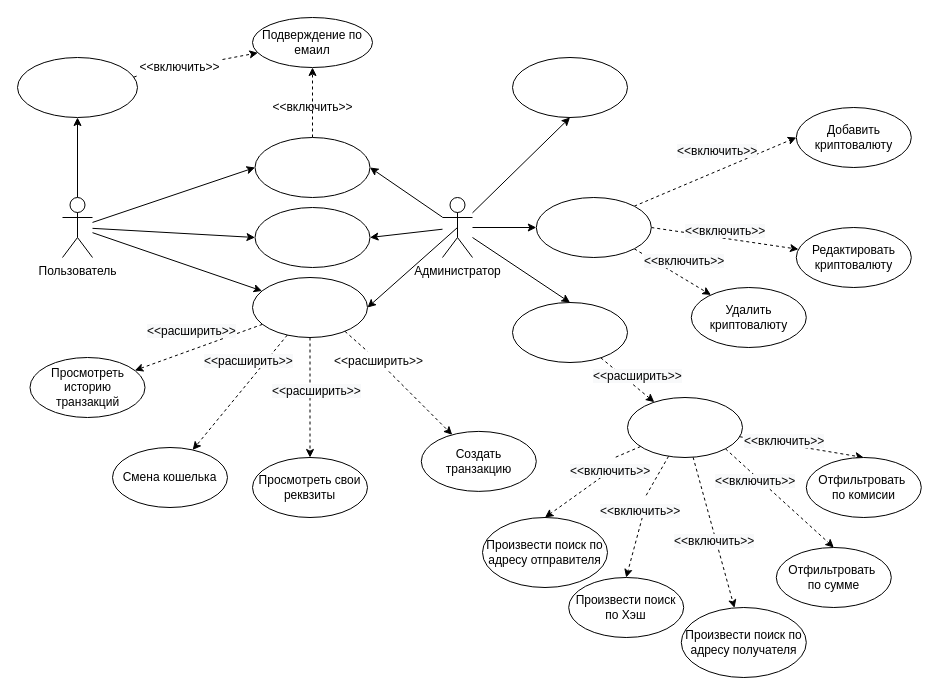
Image size: 939x695. Some labels were removed from this diagram. The shapes that lost their labels are listed below. From the top down, each one's box as (x1, y1, x2, y2) in pixels, then its label:
(16, 56, 138, 118): Зарегистрироваться
(512, 56, 628, 118): Регистрация пользователей
(254, 136, 370, 198): Выполнить вход
(254, 206, 370, 268): Восстановить аккаунт
(535, 196, 651, 258): Просмотр списка криптовалюты
(252, 276, 368, 338): Просмотр панели пользователя
(512, 302, 628, 362): Просмотр списка транзакций
(626, 396, 742, 458): Отфильтровать список транзакций
